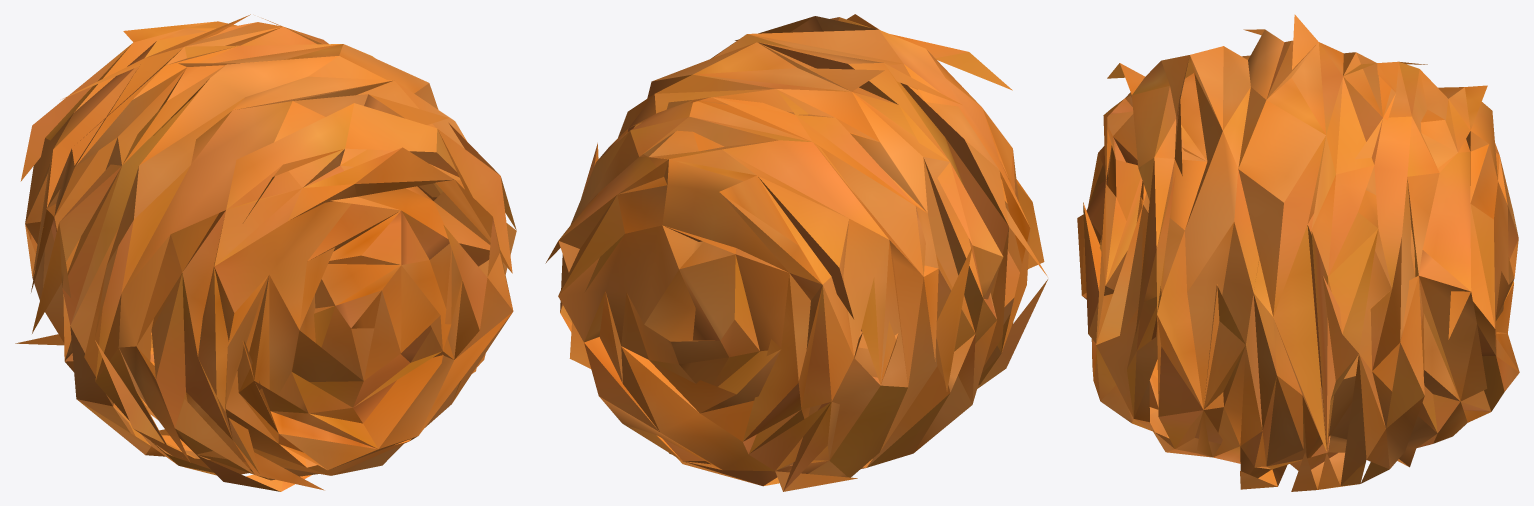
The model's file is hay.glb.
3 renders of one model, left to right at view 1: azimuth 30°, elevation 25°; view 2: azimuth 150°, elevation 25°; view 3: azimuth 270°, elevation 25°, orthographic. The views are drawn at different scales.
Visible parts, largest first — view 1: output_unwrapped; view 2: output_unwrapped; view 3: output_unwrapped.
Boxes of the visible parts, x1,y1,x2,y2 form: output_unwrapped: [15, 14, 516, 491]; output_unwrapped: [545, 14, 1047, 491]; output_unwrapped: [1077, 14, 1519, 491].
Size of the model in its own units: 1.75 by 1.69 by 1.68.
1 material, 1 textured.
